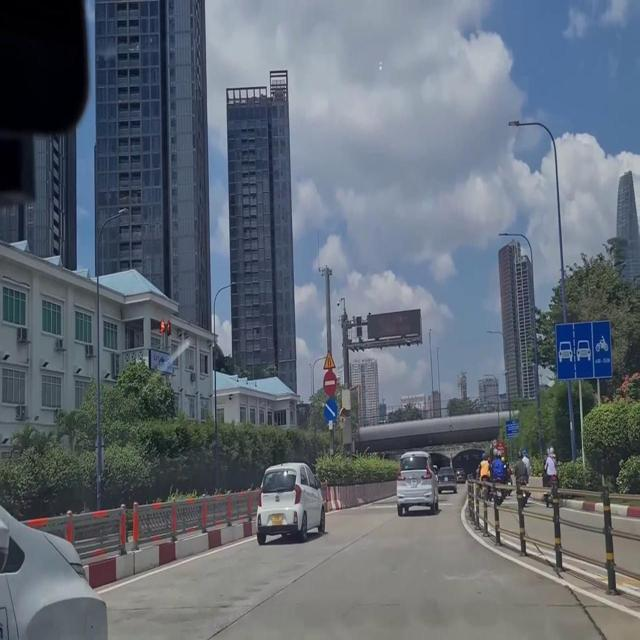Cấm đi ngược chiều: (323, 368, 339, 397)
Hướng phải đi vòng sang phải: (324, 396, 338, 421)
Khác: (498, 413, 522, 438)
Làn đường cho từng xe: (550, 312, 618, 386)
Đường hẹp: (322, 348, 335, 371)
